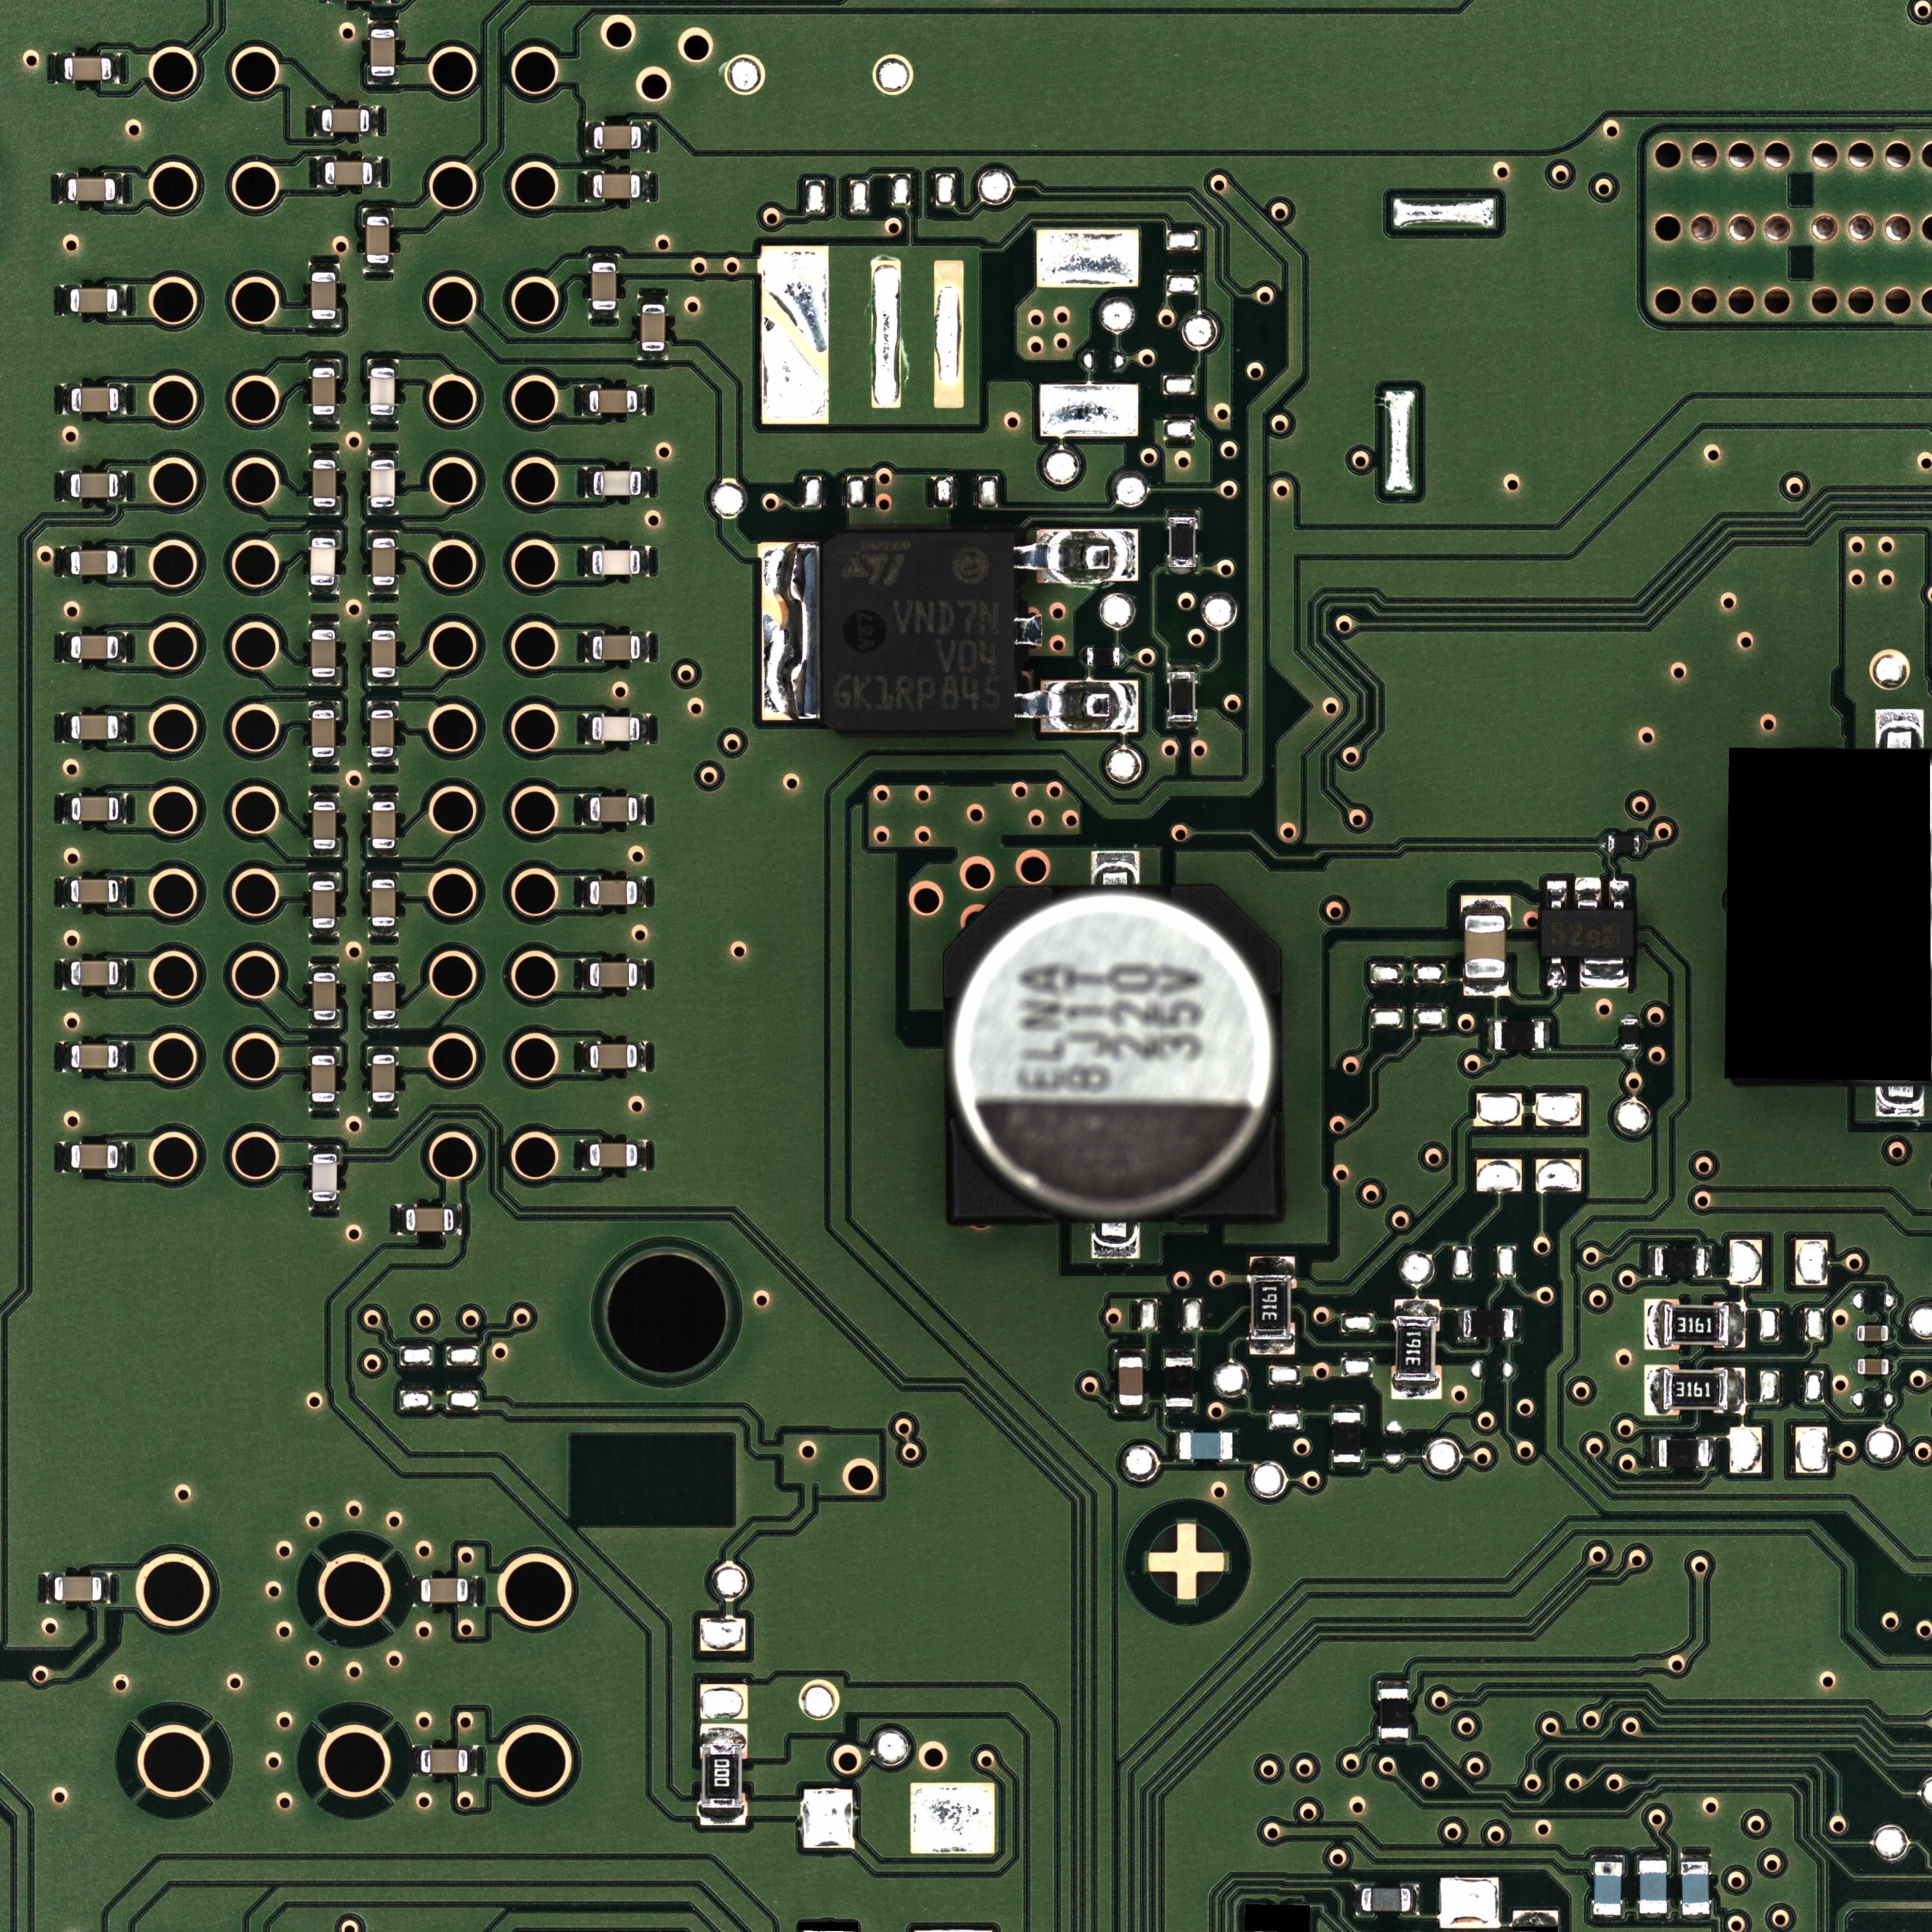Package: (943, 885, 1277, 1221), (821, 531, 1014, 734), (1539, 909, 1635, 957), (1394, 1316, 1437, 1382), (1663, 1369, 1729, 1410), (1663, 1306, 1729, 1346), (1465, 915, 1506, 978), (702, 1744, 743, 1808), (1251, 1276, 1292, 1339), (1654, 1247, 1706, 1277), (1658, 1438, 1709, 1467), (1493, 1021, 1545, 1049), (1683, 1861, 1709, 1914), (1640, 1859, 1667, 1913), (1594, 1861, 1621, 1914), (1180, 1433, 1233, 1460), (1332, 1414, 1361, 1463), (1463, 1311, 1514, 1338), (1169, 517, 1196, 568), (1380, 1690, 1408, 1737), (1166, 1357, 1192, 1407), (1169, 672, 1196, 722), (589, 796, 637, 823), (310, 538, 336, 586), (1361, 1888, 1410, 1913), (311, 881, 336, 929), (71, 715, 119, 740), (311, 1054, 336, 1102), (593, 635, 640, 660), (71, 1145, 119, 1169), (372, 971, 396, 1019), (372, 879, 396, 927), (71, 635, 119, 660), (589, 962, 637, 987), (370, 460, 395, 508), (64, 57, 111, 81), (370, 368, 395, 416), (71, 387, 119, 412), (589, 1044, 637, 1069), (1118, 1357, 1143, 1405), (71, 961, 119, 985), (593, 471, 640, 495), (71, 796, 119, 821), (589, 881, 637, 906), (372, 630, 396, 678), (311, 630, 336, 678), (313, 1154, 338, 1201), (589, 1143, 637, 1168), (421, 1578, 469, 1603), (593, 717, 640, 741), (71, 879, 119, 904), (370, 28, 395, 76), (370, 709, 395, 757), (372, 801, 396, 849), (593, 550, 640, 575), (405, 1208, 455, 1231), (311, 368, 336, 414), (71, 550, 117, 575), (311, 460, 336, 506), (71, 288, 117, 313), (55, 1576, 101, 1601), (591, 264, 616, 310), (311, 272, 336, 318), (71, 474, 119, 497), (593, 175, 640, 198), (372, 1054, 395, 1102), (313, 801, 336, 849), (71, 1046, 119, 1069), (322, 110, 370, 133), (311, 709, 334, 757), (372, 538, 395, 586), (366, 216, 389, 264), (589, 389, 637, 412), (642, 304, 665, 352), (67, 179, 115, 202), (594, 126, 642, 149), (313, 973, 336, 1019), (421, 1750, 467, 1773), (326, 163, 373, 184), (1086, 648, 1120, 665), (1608, 835, 1640, 853), (1621, 1019, 1638, 1049), (1858, 1359, 1890, 1375), (1858, 1325, 1888, 1341)
Solder: (761, 541, 819, 720), (1016, 679, 1139, 734), (1016, 529, 1139, 582), (1875, 708, 1925, 750), (1092, 1223, 1139, 1260), (1092, 849, 1141, 885), (1580, 957, 1629, 987), (1875, 1086, 1925, 1116), (1644, 1299, 1663, 1350), (701, 1723, 747, 1744), (1461, 895, 1511, 915), (1645, 1364, 1663, 1415), (1392, 1382, 1442, 1399), (1575, 878, 1601, 909), (699, 1808, 747, 1826), (1016, 614, 1042, 646), (1463, 978, 1509, 996), (1249, 1256, 1295, 1274), (1394, 1299, 1440, 1316), (1729, 1302, 1746, 1348), (1729, 1368, 1746, 1414), (1249, 1341, 1295, 1355), (1513, 1911, 1559, 1925), (1546, 957, 1566, 987), (1546, 881, 1566, 909), (1610, 881, 1629, 909), (308, 262, 340, 272), (410, 1576, 421, 1606), (469, 1576, 479, 1606), (366, 529, 400, 538), (308, 1046, 341, 1054), (308, 872, 341, 881), (308, 529, 341, 538), (308, 701, 341, 709), (1638, 1913, 1672, 1921), (308, 757, 340, 766), (366, 359, 398, 368), (366, 1019, 398, 1028), (1115, 1405, 1146, 1414), (366, 1046, 398, 1054), (308, 586, 340, 594), (310, 678, 341, 686), (637, 352, 669, 361), (366, 849, 398, 858), (366, 678, 398, 686), (366, 701, 398, 709), (361, 207, 393, 216), (308, 359, 340, 368), (640, 545, 649, 577), (62, 1141, 71, 1173), (640, 713, 649, 745), (366, 870, 398, 879), (368, 621, 398, 630), (368, 76, 398, 85), (308, 621, 338, 630), (1164, 1407, 1194, 1415), (368, 757, 398, 766), (368, 19, 398, 28), (368, 962, 398, 971), (368, 451, 398, 460), (368, 586, 398, 594), (368, 927, 398, 936), (308, 449, 338, 458), (310, 1102, 340, 1111), (310, 793, 340, 801), (1115, 1348, 1145, 1357), (469, 1746, 478, 1776), (1164, 1348, 1194, 1357), (310, 416, 340, 425), (310, 929, 340, 938), (368, 793, 398, 801), (368, 416, 398, 425), (589, 310, 619, 318), (1378, 1737, 1408, 1746), (310, 1145, 340, 1154), (363, 264, 393, 272), (373, 157, 382, 188), (589, 253, 619, 262), (62, 713, 71, 743), (580, 794, 589, 824), (640, 172, 649, 202), (119, 547, 127, 577), (103, 1573, 111, 1603), (370, 106, 379, 136), (62, 959, 71, 989), (637, 878, 646, 908), (580, 878, 589, 908), (62, 471, 71, 501), (368, 1102, 398, 1111), (317, 157, 326, 188), (640, 632, 649, 662), (119, 285, 127, 315), (313, 106, 322, 136), (62, 1042, 71, 1072), (62, 878, 71, 908), (584, 172, 593, 202), (584, 632, 593, 662), (584, 467, 593, 497), (62, 632, 71, 662), (119, 632, 127, 662), (119, 384, 127, 414), (119, 959, 127, 989), (1681, 1852, 1711, 1861), (637, 386, 646, 416), (637, 959, 646, 989), (637, 1042, 646, 1072), (1352, 1884, 1361, 1914), (639, 295, 667, 304), (310, 964, 338, 973), (62, 794, 71, 823), (412, 1746, 421, 1775), (119, 713, 127, 741), (119, 794, 127, 823), (119, 878, 127, 906), (310, 1021, 341, 1028), (310, 508, 341, 515), (586, 122, 593, 154), (1168, 510, 1200, 517), (1651, 1437, 1658, 1468), (366, 508, 398, 515), (1166, 722, 1198, 729), (310, 849, 341, 856), (1514, 1307, 1522, 1339), (1332, 1463, 1364, 1470), (1233, 1430, 1240, 1461), (1706, 1246, 1713, 1277), (1486, 1019, 1493, 1051), (1545, 1019, 1552, 1051), (455, 1203, 462, 1235), (1647, 1246, 1654, 1277), (111, 53, 119, 85), (639, 1139, 646, 1171), (1637, 1852, 1668, 1859), (1592, 1914, 1624, 1921), (310, 320, 340, 327), (1378, 1681, 1408, 1688), (1168, 568, 1198, 575), (1332, 1405, 1362, 1412), (1168, 663, 1198, 671), (1709, 1438, 1716, 1468), (1412, 1884, 1419, 1914), (1592, 1854, 1622, 1861), (582, 386, 589, 416), (398, 1205, 405, 1235), (642, 122, 649, 152), (64, 547, 71, 577), (119, 471, 126, 501), (60, 173, 67, 203), (584, 547, 591, 577), (64, 384, 71, 414), (1456, 1309, 1463, 1339), (115, 173, 122, 203), (582, 1139, 589, 1169), (642, 467, 649, 497), (582, 959, 589, 989), (62, 285, 69, 315), (46, 1573, 53, 1603), (639, 794, 646, 824), (119, 1141, 126, 1171), (310, 1201, 340, 1208), (1173, 1431, 1180, 1461), (57, 53, 64, 83), (582, 1042, 589, 1070), (584, 715, 591, 743), (119, 1042, 126, 1070), (1683, 1914, 1711, 1921), (1621, 1012, 1638, 1019), (1601, 835, 1608, 853), (1622, 1051, 1638, 1058), (1888, 1325, 1895, 1341), (1890, 1359, 1897, 1375), (1851, 1359, 1858, 1375), (1851, 1325, 1858, 1341), (1120, 648, 1125, 665), (1081, 648, 1086, 665), (1640, 835, 1645, 853)
